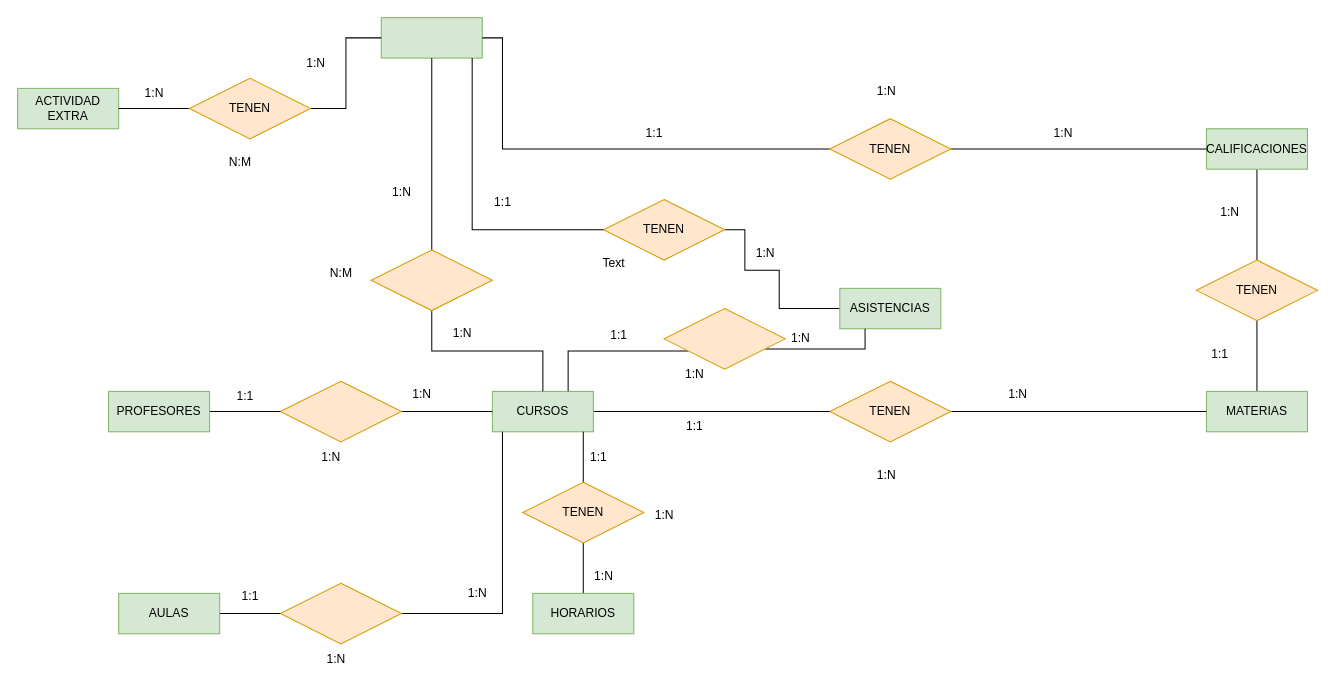
This 1335x692 diagram has some shape labels left out. Here are the shapes that lost their labels. From the top down, the centre of each, then its label:
[431,37]: ESTUDIANTES
[431,280]: MATRICULADO
[724,338]: PERTENECE
[340,411]: IMPARTEN
[340,613]: EN
